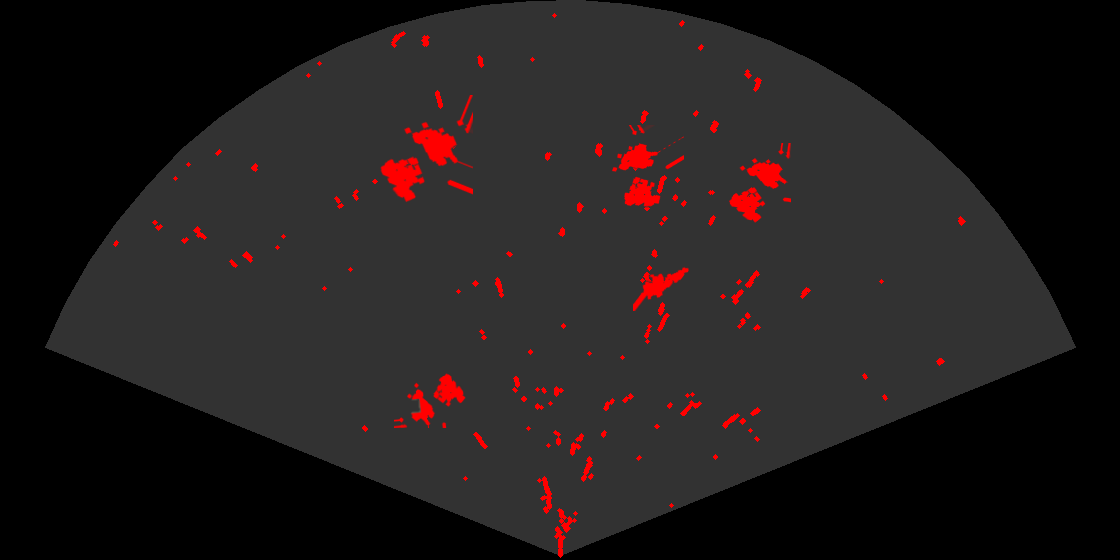cage: (379, 95, 473, 204), (610, 125, 684, 208), (728, 143, 791, 224), (394, 372, 467, 428)
frogman: (633, 265, 690, 311)
